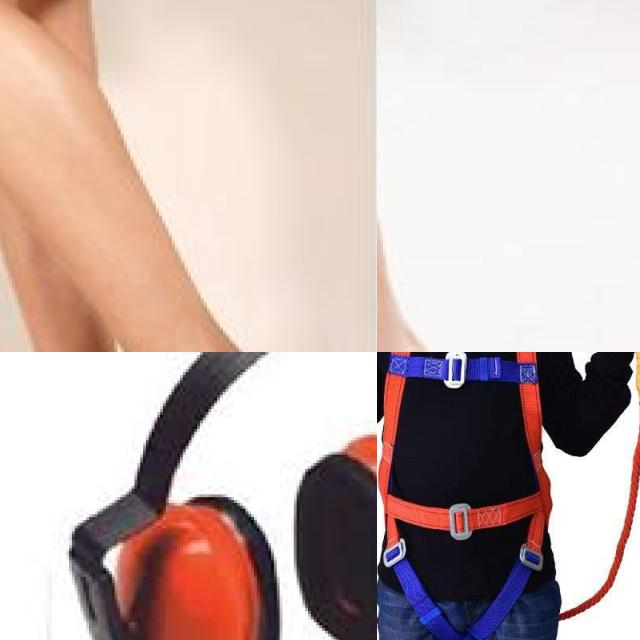Ear-protection: (83, 352, 377, 640)
Harness: (377, 352, 556, 640)
